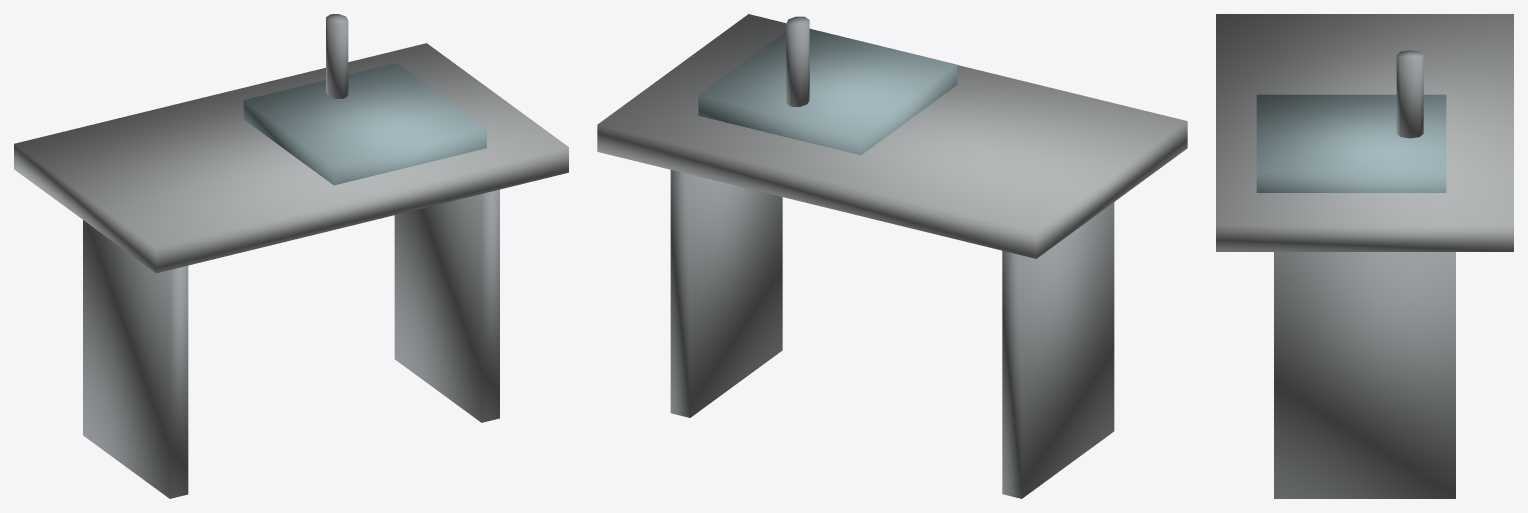
File: lab_sink_bench__deep.glb
3 renders of one model, left to right at view 1: azimuth 30°, elevation 25°; view 2: azimuth 150°, elevation 25°; view 3: azimuth 270°, elevation 25°, orthographic. The views are drawn at different scales.
Parts seen in each view (by area): view 1: world; view 2: world; view 3: world.
Boxes of the visible parts, box(x1,y1,x2,y2) form: world: box(14, 14, 568, 498); world: box(597, 14, 1187, 498); world: box(1216, 14, 1513, 498).
Size of the model in its own units: 1.35 by 1.17 by 0.8052.
